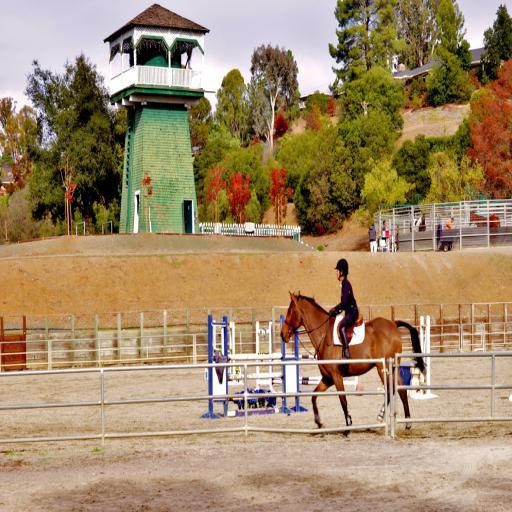horse: (279, 288, 429, 437)
